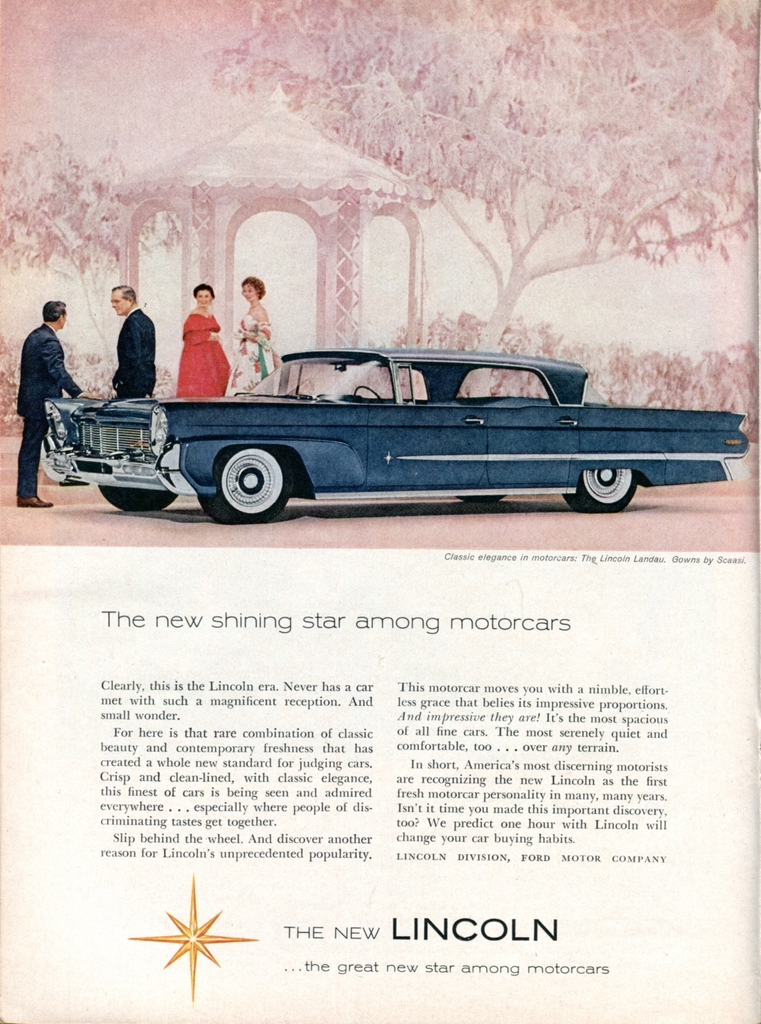cars: (35, 346, 742, 518)
